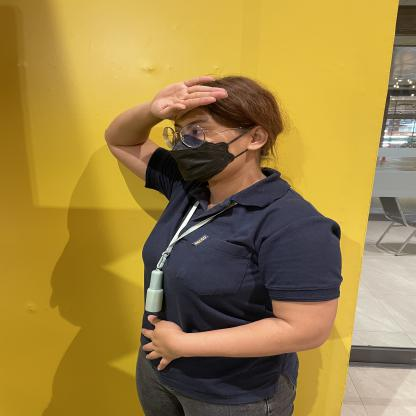Sick: (88, 68, 254, 134)
